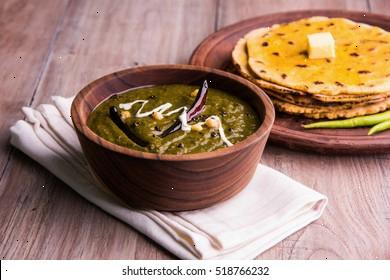saag: (87, 76, 262, 156)
